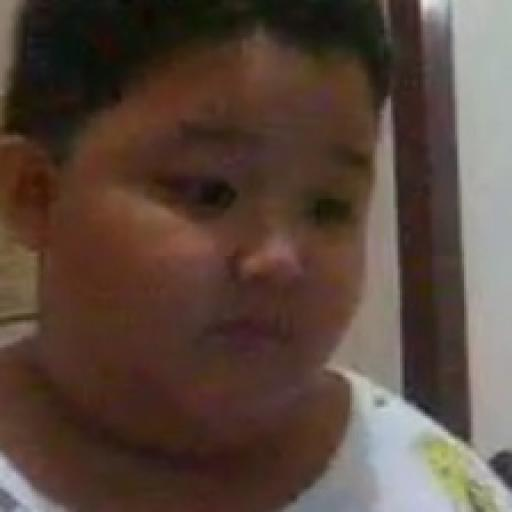Autism: (0, 0, 458, 483)
